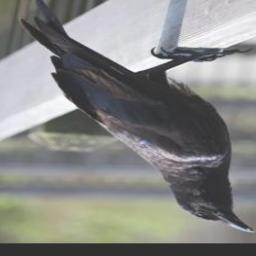Crow: (17, 0, 255, 234)
